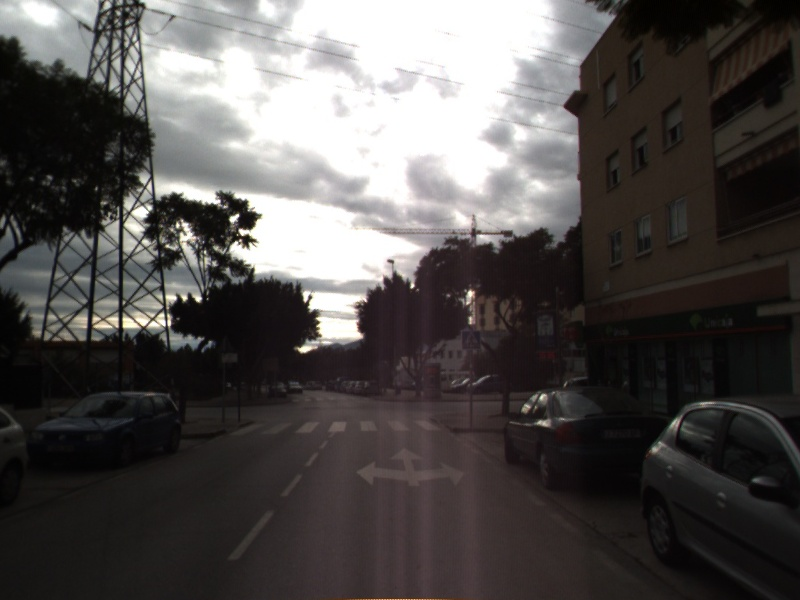STRAIGHT_LEFT_RIGHT: (354, 446, 467, 489)
